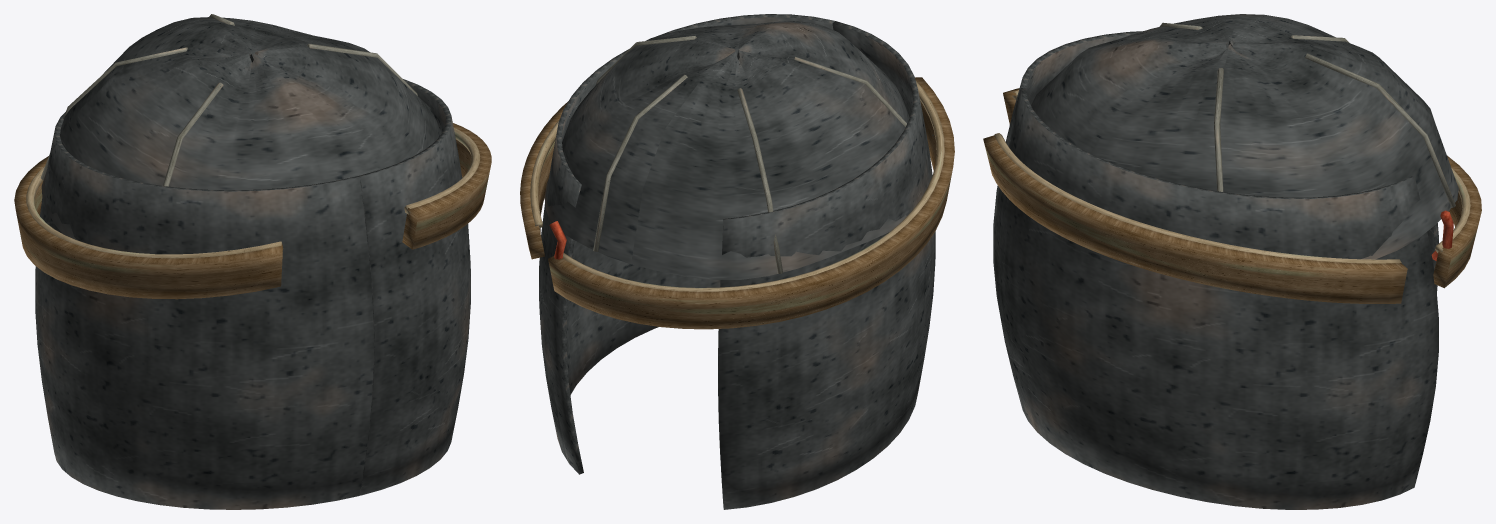
File: Brandreif.fbx
3 views of the same model, side by side, from view 1: azimuth 30°, elevation 25°; view 2: azimuth 150°, elevation 25°; view 3: azimuth 270°, elevation 25° (orthographic). The views are drawn at different scales.
Visible parts, largest first — view 1: Brandreif; view 2: Brandreif; view 3: Brandreif.
Part boxes in pixels (box(x1,y1,x2,y2)): Brandreif: box(14, 14, 491, 509); Brandreif: box(520, 14, 954, 509); Brandreif: box(983, 14, 1481, 509).
Bounding box in the file's own units: 0.2448 × 0.2424 × 0.269.
Materials: 1 (1 with a texture image).
